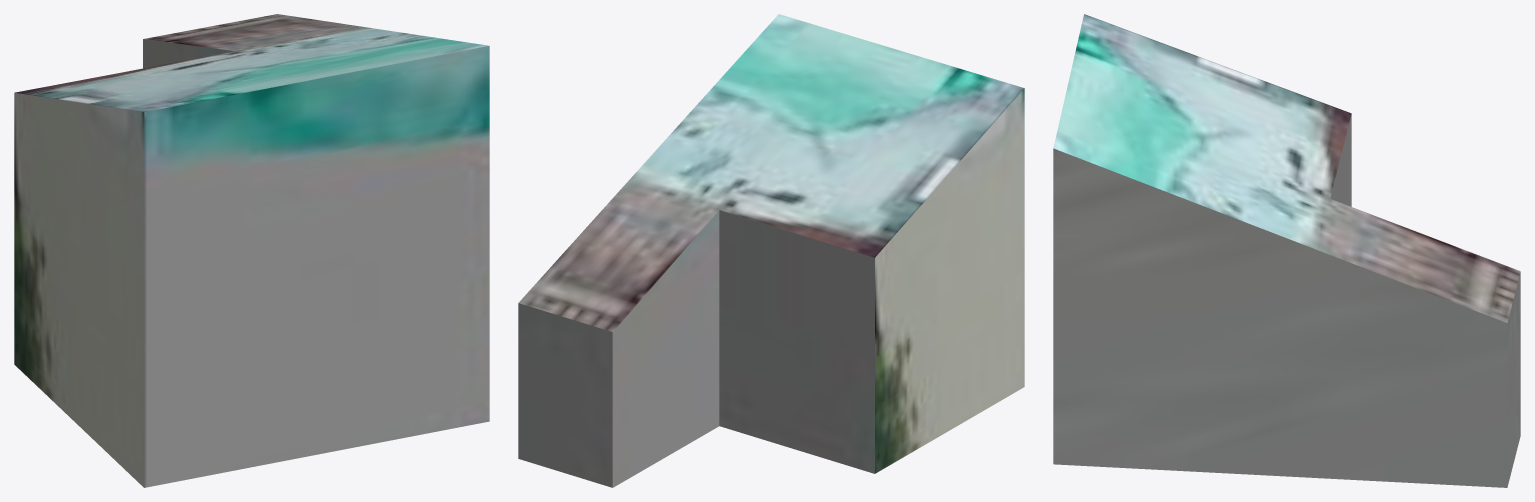
The picture shows the model from 3 angles, left to right: view 1: azimuth 30°, elevation 25°; view 2: azimuth 150°, elevation 25°; view 3: azimuth 270°, elevation 25°; orthographic projection. The views are drawn at different scales.
Visible parts, largest first — view 1: B287184045901062A0; view 2: B287184045901062A0; view 3: B287184045901062A0.
Boxes of the visible parts, x1,y1,x2,y2 form: B287184045901062A0: [14, 14, 489, 487]; B287184045901062A0: [518, 14, 1024, 487]; B287184045901062A0: [1053, 14, 1520, 487].
Size of the model in its own units: 4.08 by 3.81 by 5.1.
1 material, 1 textured.
